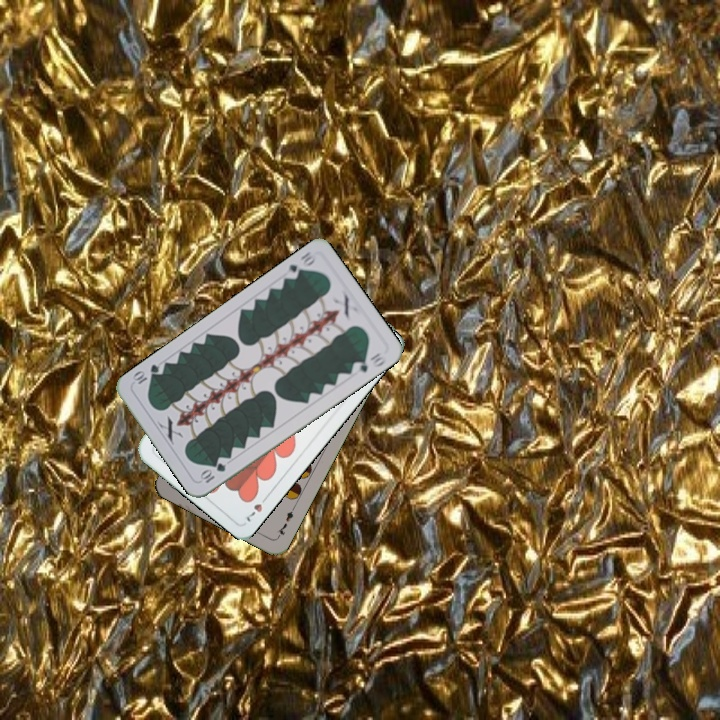E7: (273, 503, 298, 541)
G10: (281, 248, 318, 282), (196, 459, 228, 486)
H7: (242, 491, 271, 524)
